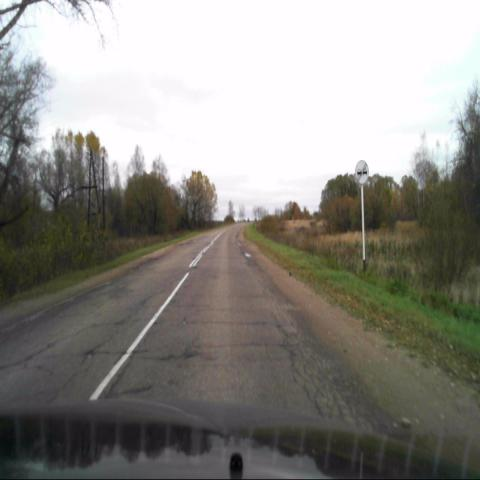3_21: (354, 158, 369, 184)
